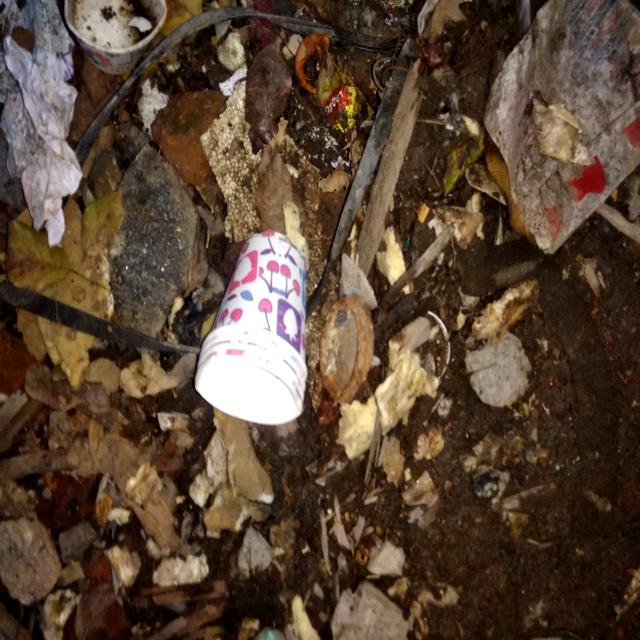Trash: (167, 254, 310, 418), (301, 5, 480, 113), (421, 84, 480, 215)
